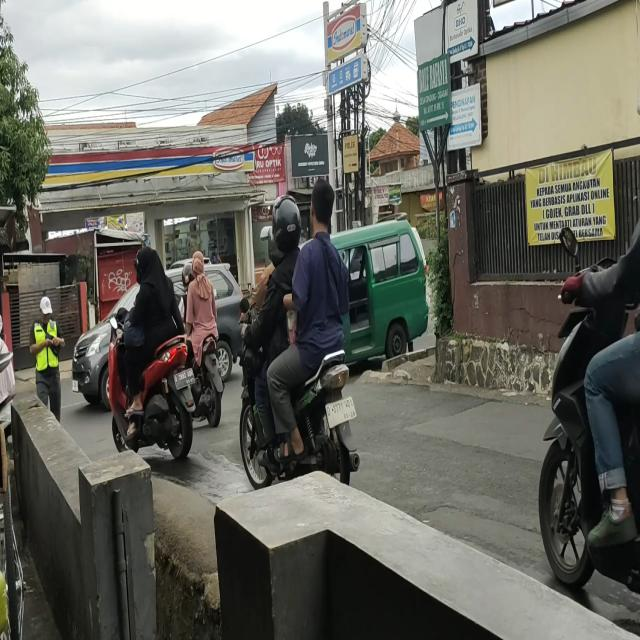helmet: (272, 196, 301, 248), (182, 264, 190, 288)
no-helmet: (309, 181, 336, 229), (138, 250, 161, 284), (191, 249, 205, 278)
